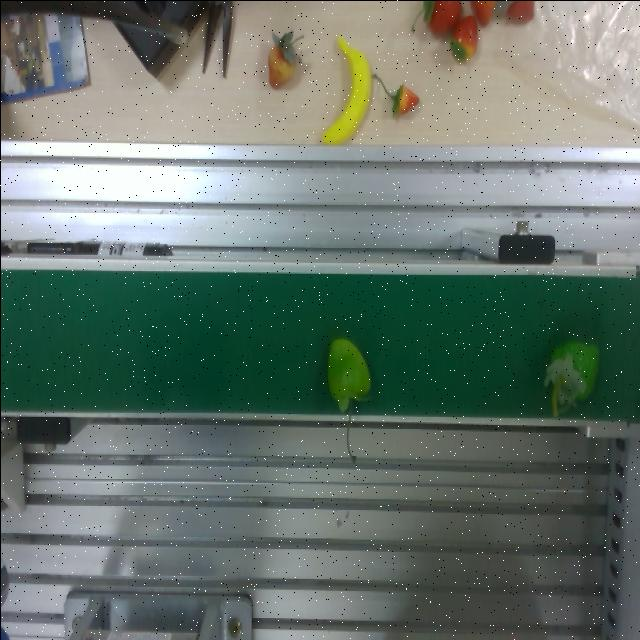Small Unripe Strawberry: (534, 339, 604, 413), (319, 336, 379, 418)
conveyor: (0, 259, 638, 431)
